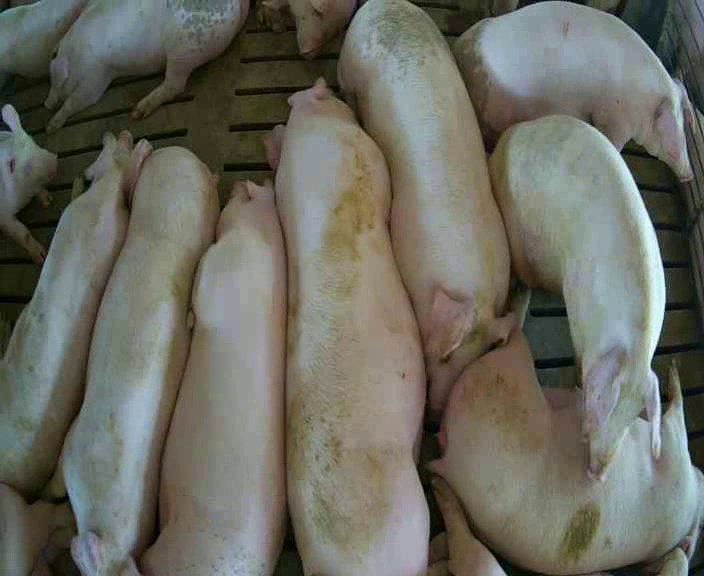pig: (264, 80, 428, 574), (424, 284, 703, 573), (338, 3, 514, 411), (489, 115, 663, 478), (142, 179, 286, 574), (0, 132, 152, 496), (456, 2, 696, 180), (45, 3, 248, 131), (0, 2, 84, 88)
